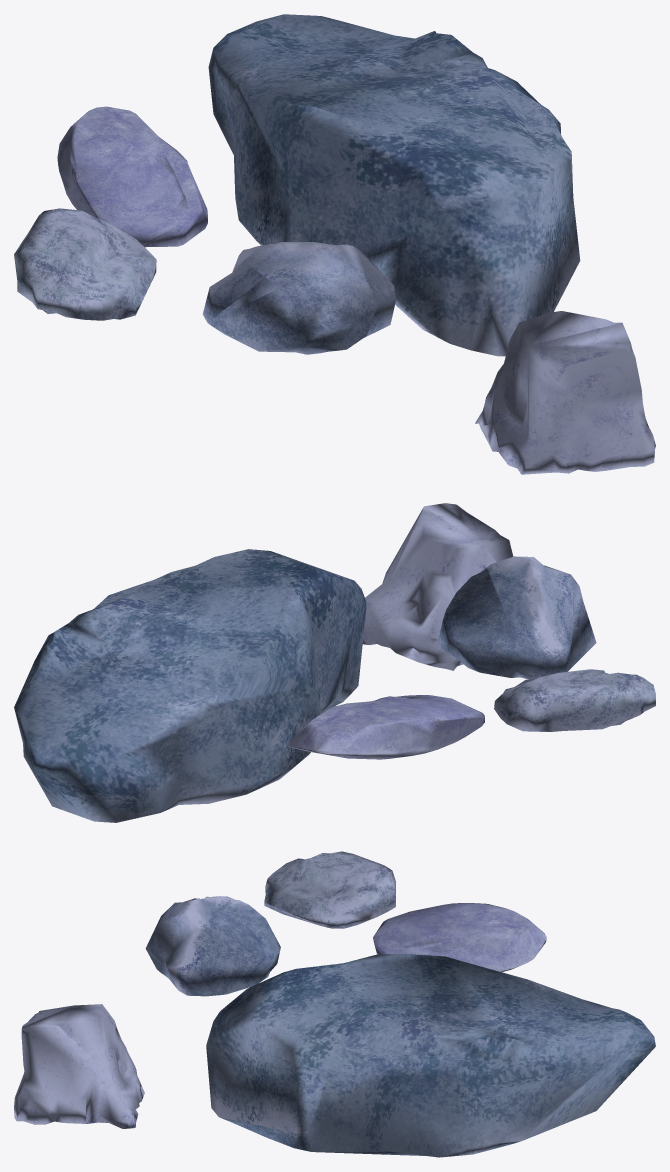
The model's file is Rocks.fbx.
3 views of the same model, one above another, from view 1: azimuth 30°, elevation 25°; view 2: azimuth 150°, elevation 25°; view 3: azimuth 270°, elevation 25° (orthographic). The views are drawn at different scales.
Visible parts, largest first — view 1: ThiccRock, SquareRock, DomeRock, RockSlabB, RockSlabA; view 2: ThiccRock, DomeRock, SquareRock, RockSlabB, RockSlabA; view 3: ThiccRock, SquareRock, DomeRock, RockSlabB, RockSlabA.
Boxes of the visible parts, bbox=[...] form: ThiccRock: bbox=[208, 14, 580, 356]; SquareRock: bbox=[475, 311, 655, 474]; DomeRock: bbox=[202, 242, 395, 354]; RockSlabB: bbox=[57, 106, 207, 247]; RockSlabA: bbox=[14, 208, 156, 320]; ThiccRock: bbox=[14, 549, 366, 822]; DomeRock: bbox=[438, 556, 596, 679]; SquareRock: bbox=[362, 503, 513, 670]; RockSlabB: bbox=[288, 695, 484, 759]; RockSlabA: bbox=[494, 669, 655, 731]; ThiccRock: bbox=[206, 954, 655, 1157]; SquareRock: bbox=[14, 1004, 144, 1128]; DomeRock: bbox=[145, 896, 280, 996]; RockSlabB: bbox=[373, 903, 546, 972]; RockSlabA: bbox=[264, 851, 395, 928].
Size of the model in its own units: 1635 by 501 by 2030.
